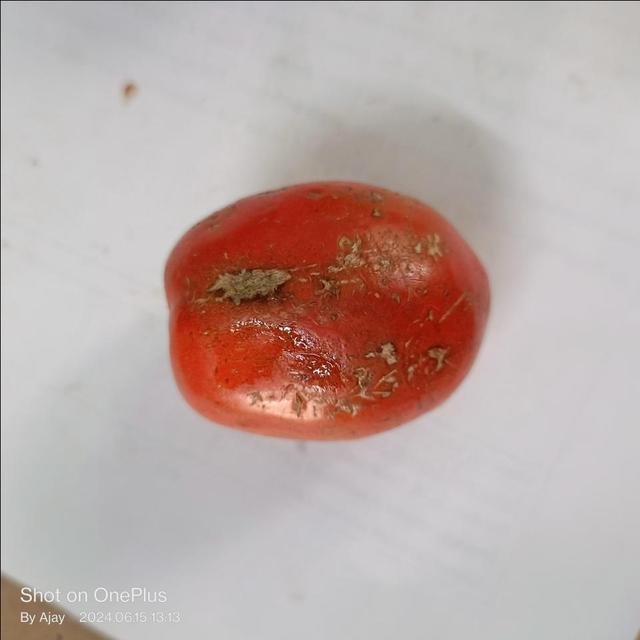Bacterial Spot Fruit: (64, 34, 252, 248)
